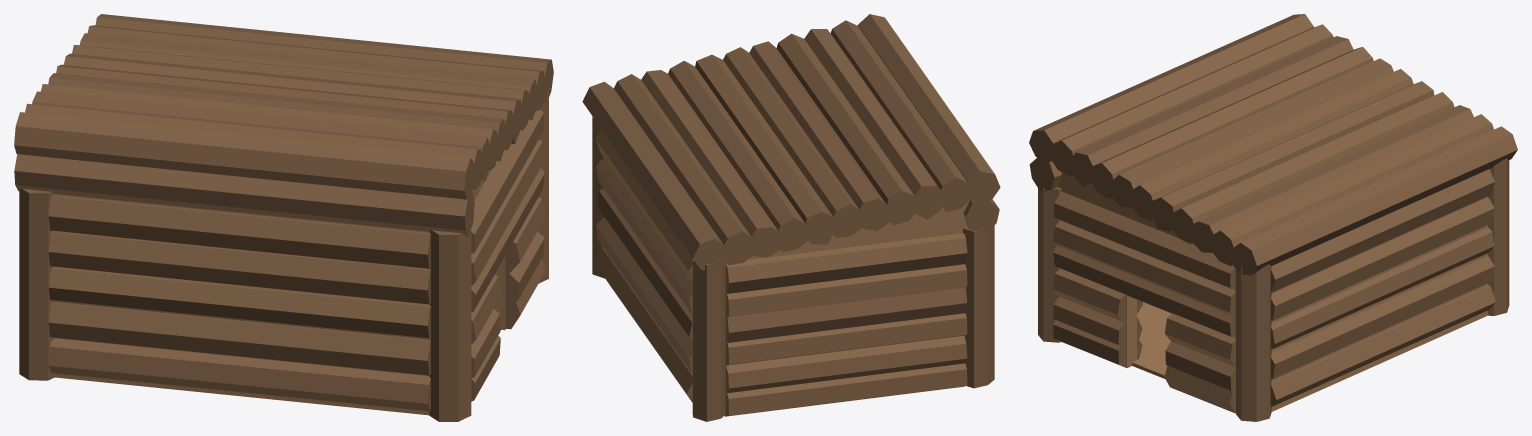
Rendered from low-poly_wood_cabin_logs.glb.
3 views of the same model, side by side, from view 1: azimuth 30°, elevation 25°; view 2: azimuth 150°, elevation 25°; view 3: azimuth 270°, elevation 25° (orthographic). The views are drawn at different scales.
Parts seen in each view (by area): view 1: Cube.001; view 2: Cube.001; view 3: Cube.001.
Boxes of the visible parts, bbox=[...] form: Cube.001: bbox=[14, 14, 553, 421]; Cube.001: bbox=[582, 14, 1000, 421]; Cube.001: bbox=[1029, 14, 1517, 421].
Bounding box in the file's own units: 27.05 × 12.99 × 26.92.
